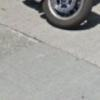motorcycles: (42, 0, 94, 30)
